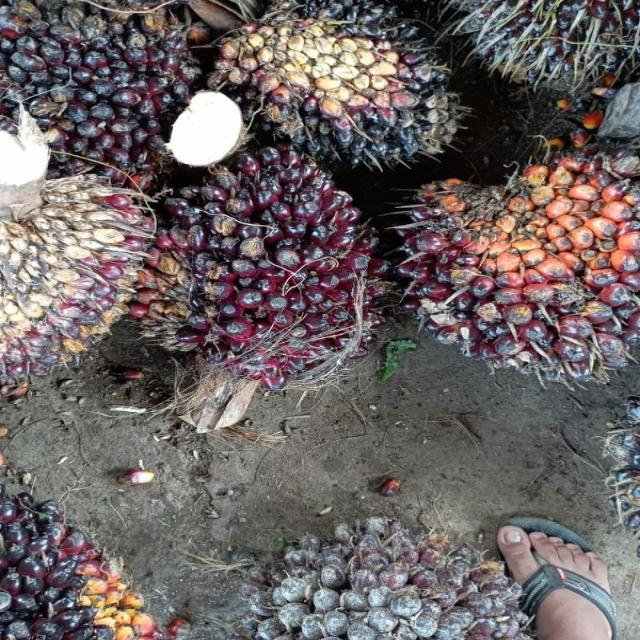fraksi 1: (390, 124, 640, 445), (116, 135, 390, 413)
